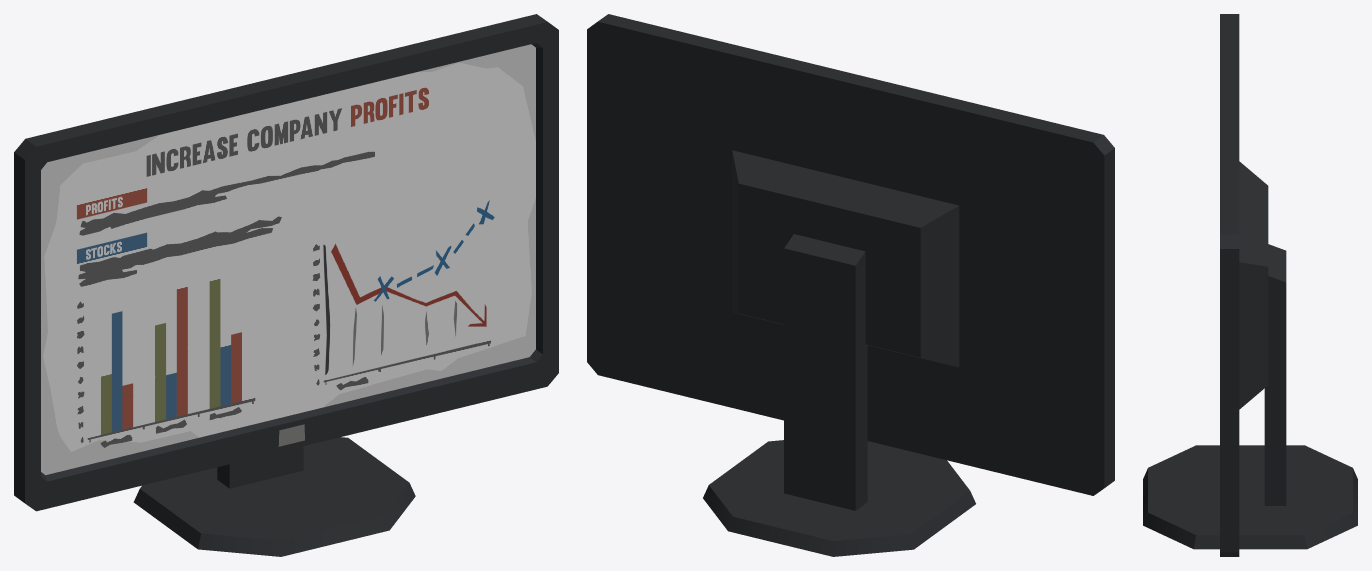
The model's file is Monitor.glb.
3 views of the same model, side by side, from view 1: azimuth 30°, elevation 25°; view 2: azimuth 150°, elevation 25°; view 3: azimuth 270°, elevation 25° (orthographic). The views are drawn at different scales.
Visible parts, largest first — view 1: SM_Prop_Computer_Monitor_01; view 2: SM_Prop_Computer_Monitor_01; view 3: SM_Prop_Computer_Monitor_01.
Boxes of the visible parts, x1,y1,x2,y2 form: SM_Prop_Computer_Monitor_01: [14, 14, 558, 556]; SM_Prop_Computer_Monitor_01: [587, 14, 1114, 556]; SM_Prop_Computer_Monitor_01: [1143, 14, 1357, 556].
Bounding box in the file's own units: 0.6589 × 0.5043 × 0.2595.
Materials: 2 (2 with a texture image).
